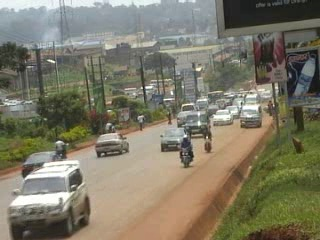Car: (7, 157, 92, 239), (19, 146, 64, 184), (92, 128, 130, 159), (158, 125, 191, 154), (183, 109, 212, 138), (212, 106, 234, 128), (174, 109, 194, 128), (224, 103, 239, 120), (204, 103, 220, 117), (228, 99, 242, 113)
Motorcycle: (175, 134, 195, 169), (53, 134, 70, 160), (201, 125, 214, 154)
